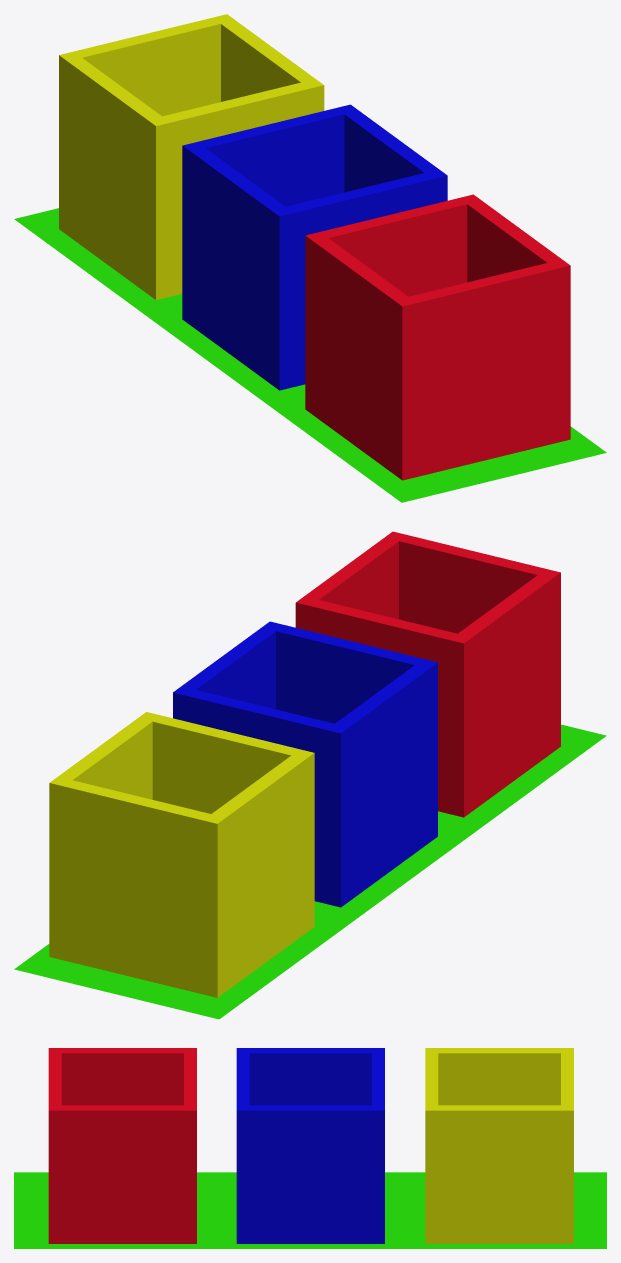
3 renders of one model, top to bottom at view 1: azimuth 30°, elevation 25°; view 2: azimuth 150°, elevation 25°; view 3: azimuth 270°, elevation 25°, orthographic. The views are drawn at different scales.
Visible parts, largest first — view 1: Cube.001, Cube.003, Cube.002, Plane; view 2: Cube.003, Cube.002, Cube.001, Plane; view 3: Cube.001, Cube.002, Cube.003, Plane.
Part boxes in pixels (x1,y1,x2,y2): Cube.001: (305, 194, 570, 480); Cube.003: (59, 14, 324, 299); Cube.002: (182, 104, 447, 390); Plane: (14, 208, 606, 502); Cube.003: (49, 712, 314, 997); Cube.002: (173, 621, 437, 907); Cube.001: (295, 531, 560, 817); Plane: (14, 724, 606, 1019); Cube.001: (48, 1048, 196, 1243); Cube.002: (236, 1048, 384, 1243); Cube.003: (425, 1048, 573, 1243); Plane: (14, 1172, 606, 1248).
Bounding box in the file's own units: 949 × 778 × 3106.
